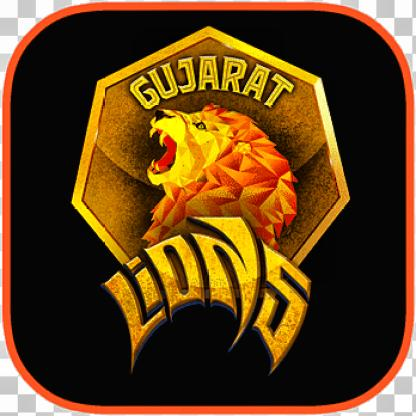Gujarat lions: (71, 25, 352, 378)
